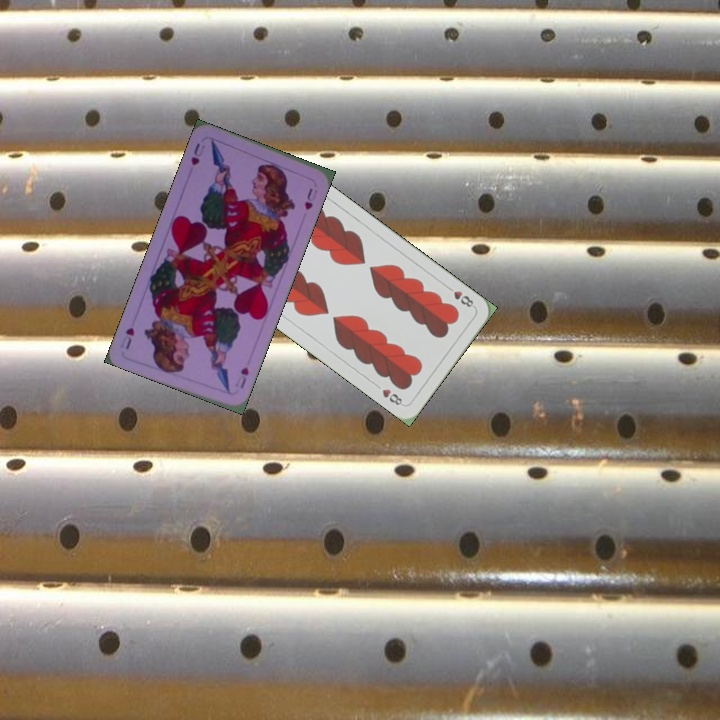H8: (442, 282, 478, 310)
HU: (187, 139, 208, 168), (231, 363, 251, 391)
